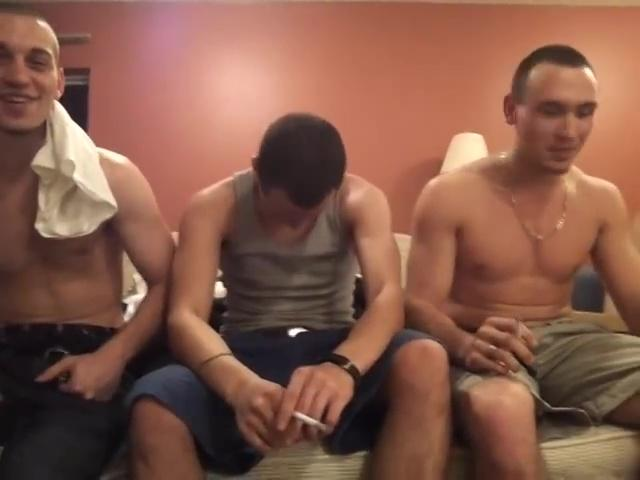cigarette: (290, 407, 331, 433), (511, 310, 528, 341)
